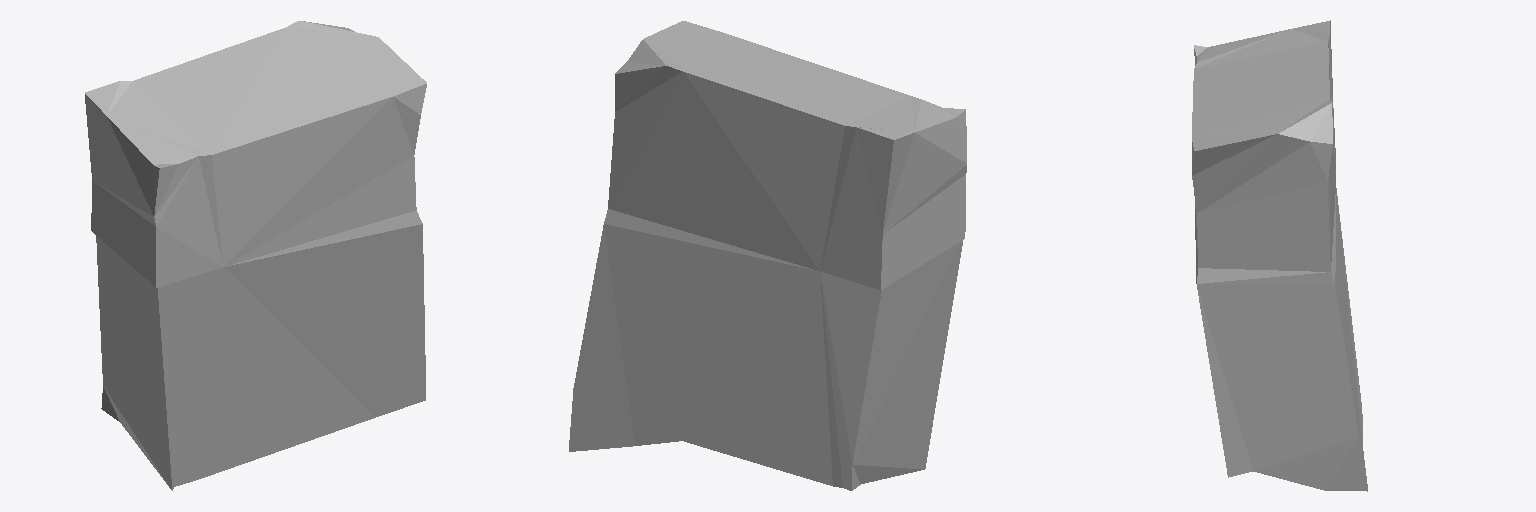
The robot description file, URDF, robot "root":
<?xml version='1.0' encoding='utf-8'?>
<robot name="root">
  <link name="link_001">
    <visual>
      <origin xyz="0 0 0" rpy="0 0 0" />
      <geometry>
        <mesh filename="6772e2ca357633809e4ac637726635bcddf375efde07ac2f2be1075d85f4f070_scale_029.stl" scale="1.0000E+00 1.0000E+00 1.0000E+00" />
      </geometry>
      <material name="">
        <color rgba="7.50E-01 7.50E-01 7.50E-01 1" />
      </material>
    </visual>
    <collision>
      <origin xyz="0 0 0" rpy="0 0 0" />
      <geometry>
        <mesh filename="6772e2ca357633809e4ac637726635bcddf375efde07ac2f2be1075d85f4f070_scale_029.stl" scale="1.0000E+00 1.0000E+00 1.0000E+00" />
      </geometry>
    </collision>
  </link>
</robot>

--- Facts derived from the render (not from the file) ---
Views: 3 orthographic renders of the robot side by side, from view 1: azimuth 30°, elevation 25°; view 2: azimuth 150°, elevation 25°; view 3: azimuth 270°, elevation 25°.
Robot: root — 1 links, 0 joints (none); root link link_001; default pose: every joint at zero.
Links seen in each view (by area): view 1: link_001; view 2: link_001; view 3: link_001.
Boxes of the visible links, bbox=[...] form: link_001: bbox=[85, 21, 426, 490]; link_001: bbox=[569, 21, 966, 490]; link_001: bbox=[1192, 20, 1367, 491].
Bounding box of the posed robot: 0.0978 × 0.0539 × 0.1225 m (x, y, z).
Meshes: 1 distinct files referenced, 1 mesh visuals loaded (1 binary STL).
